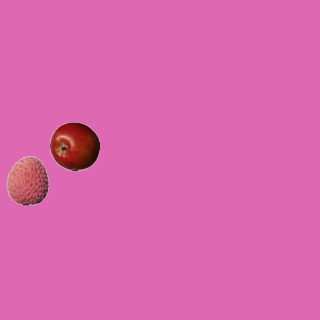Apple Braeburn: (49, 121, 99, 171)
Lychee: (2, 155, 52, 205)
